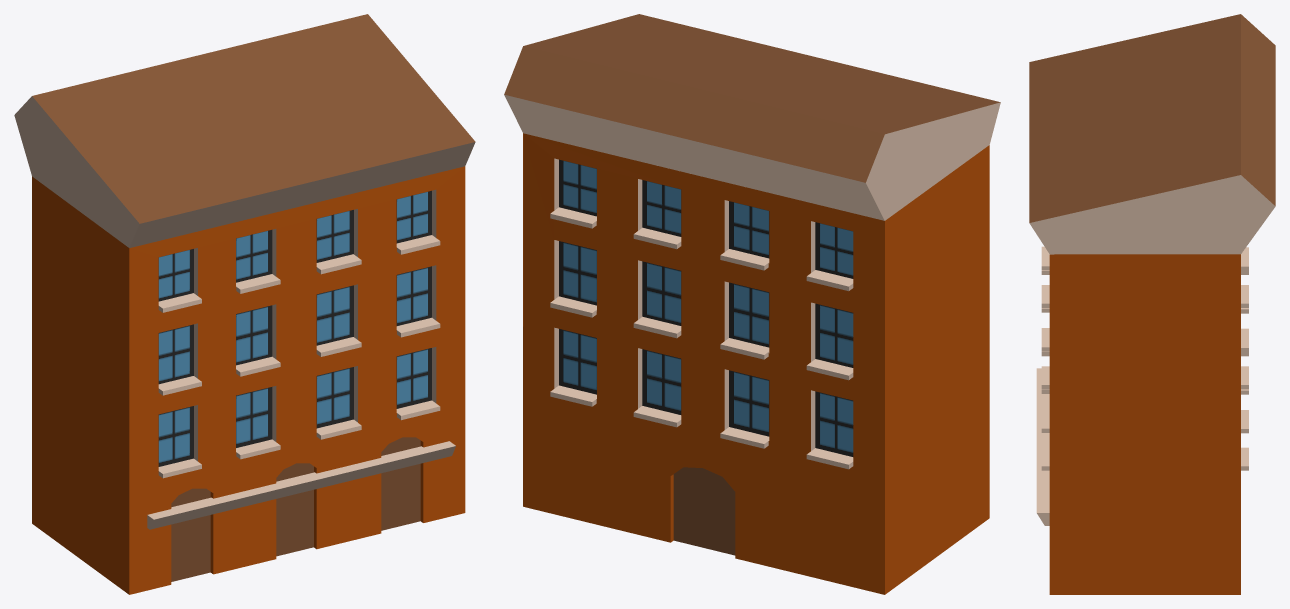
File: BigOrange.obj
The picture shows the model from 3 angles, left to right: view 1: azimuth 30°, elevation 25°; view 2: azimuth 150°, elevation 25°; view 3: azimuth 270°, elevation 25°; orthographic projection. The views are drawn at different scales.
Visible parts, largest first — view 1: DuzyZwyklyPomaranczowy; view 2: DuzyZwyklyPomaranczowy; view 3: DuzyZwyklyPomaranczowy.
Boxes of the visible parts, box(x1,y1,x2,y2) form: DuzyZwyklyPomaranczowy: box(14, 14, 475, 594); DuzyZwyklyPomaranczowy: box(504, 14, 1000, 594); DuzyZwyklyPomaranczowy: box(1029, 14, 1275, 594).
Bounding box in the file's own units: 10.96 × 13.33 × 7.09.
